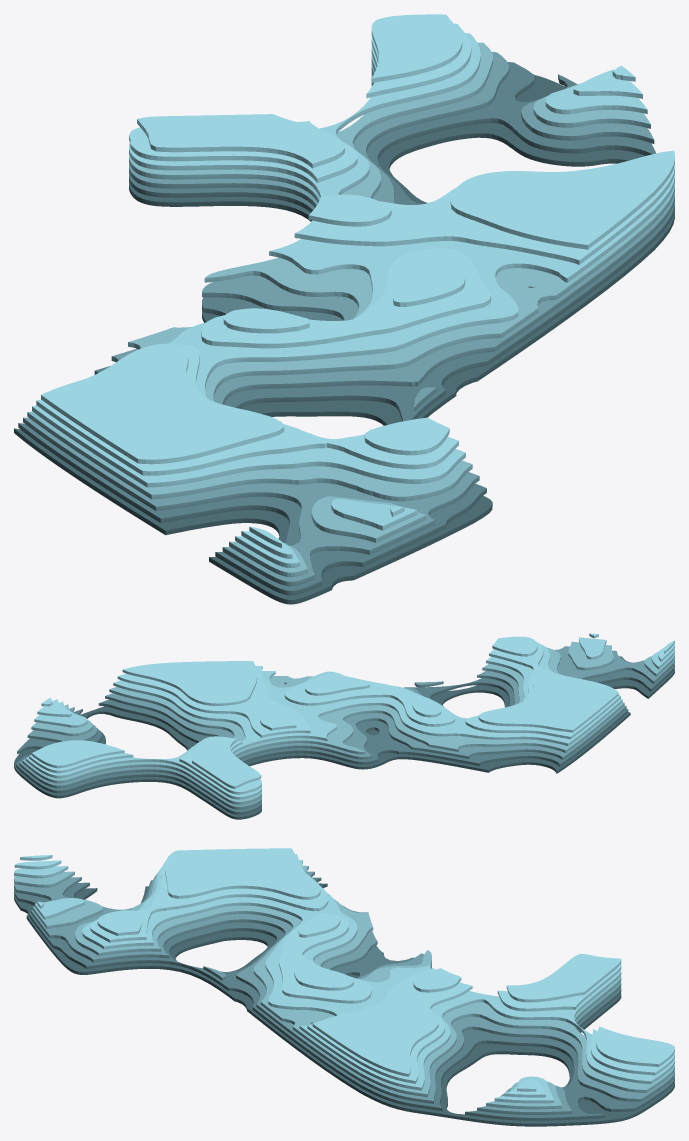
File: RecorridoRetiro.gltf
3 views of the same model, one above another, from view 1: azimuth 30°, elevation 25°; view 2: azimuth 150°, elevation 25°; view 3: azimuth 270°, elevation 25° (orthographic). The views are drawn at different scales.
Visible parts, largest first — view 1: MarcadoRetiro; view 2: MarcadoRetiro; view 3: MarcadoRetiro.
Boxes of the visible parts, box(x1,y1,x2,y2) form: MarcadoRetiro: box(14, 14, 674, 604); MarcadoRetiro: box(14, 633, 674, 819); MarcadoRetiro: box(14, 848, 674, 1126).
Size of the model in its own units: 3.55 by 0.26 by 4.12.
Materials: 1 (1 with a texture image).
